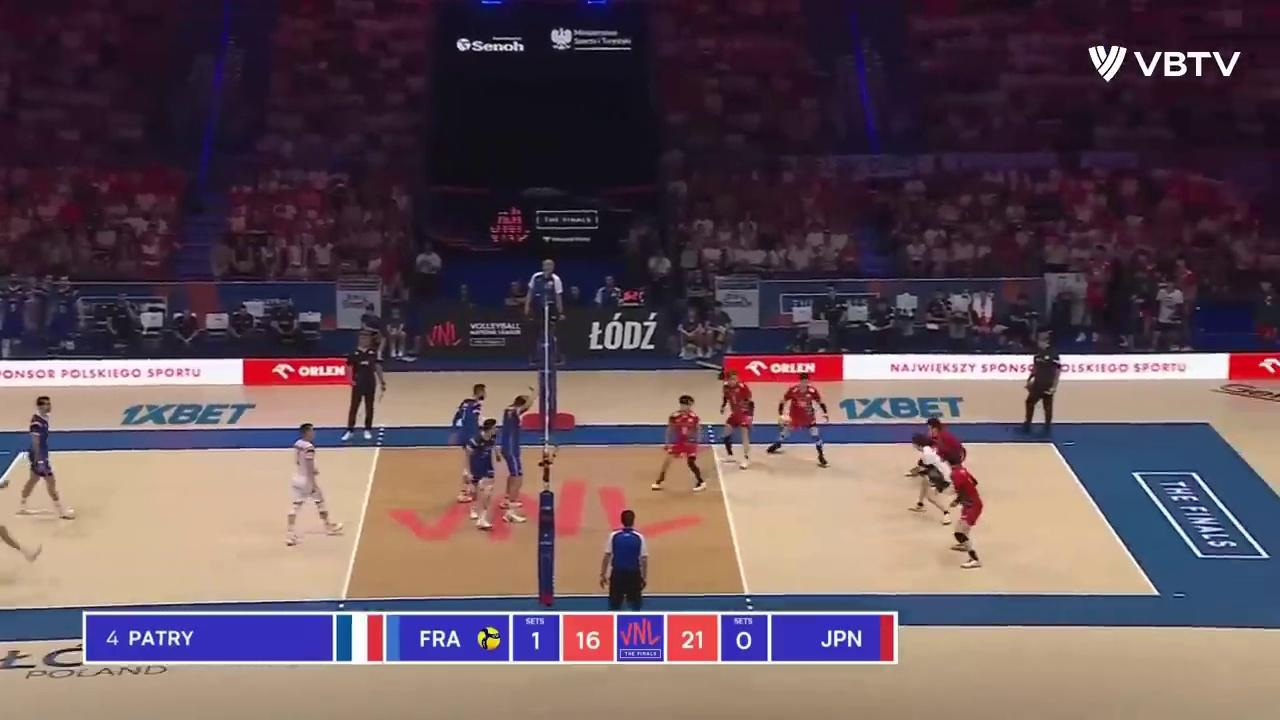ball: (778, 414, 791, 427)
